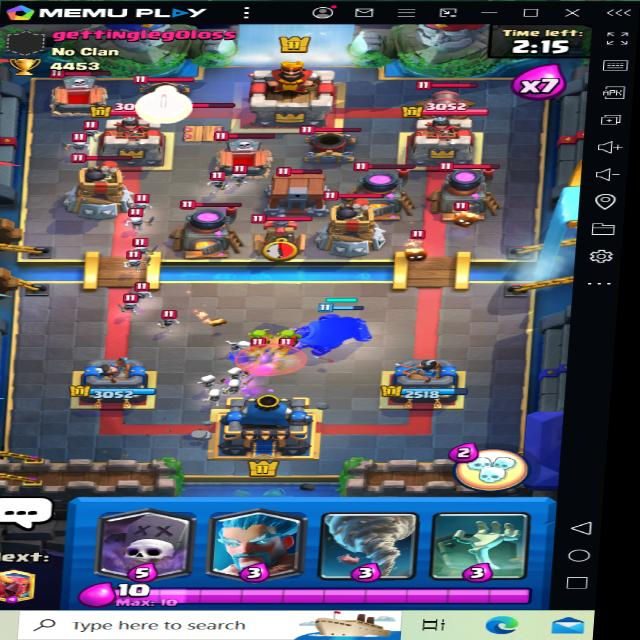bomb-tower: (64, 150, 140, 220), (315, 190, 395, 253)
cannon: (409, 78, 484, 122)
fire-spirit: (392, 234, 430, 265), (447, 201, 484, 231)
furnace: (426, 158, 514, 225), (340, 159, 418, 223), (168, 197, 246, 257)
goblin: (238, 328, 275, 354), (273, 326, 299, 350)
goblin-cage: (264, 164, 334, 218)
mortar: (132, 65, 202, 111), (295, 123, 361, 166)
skeleton: (150, 302, 185, 334), (111, 289, 142, 319), (131, 233, 163, 260), (120, 248, 153, 274), (122, 204, 154, 226), (128, 285, 160, 306), (125, 193, 155, 214), (72, 118, 106, 136), (199, 170, 225, 191), (62, 133, 88, 153), (227, 168, 252, 184)
tesla: (241, 210, 312, 258)
tesla-closed: (163, 97, 240, 145)
tombstone: (39, 60, 124, 116), (208, 130, 281, 178)
